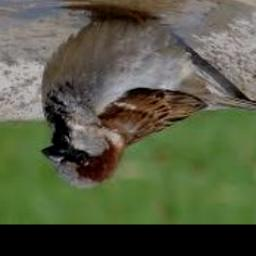Sparrow: (41, 14, 256, 190)
